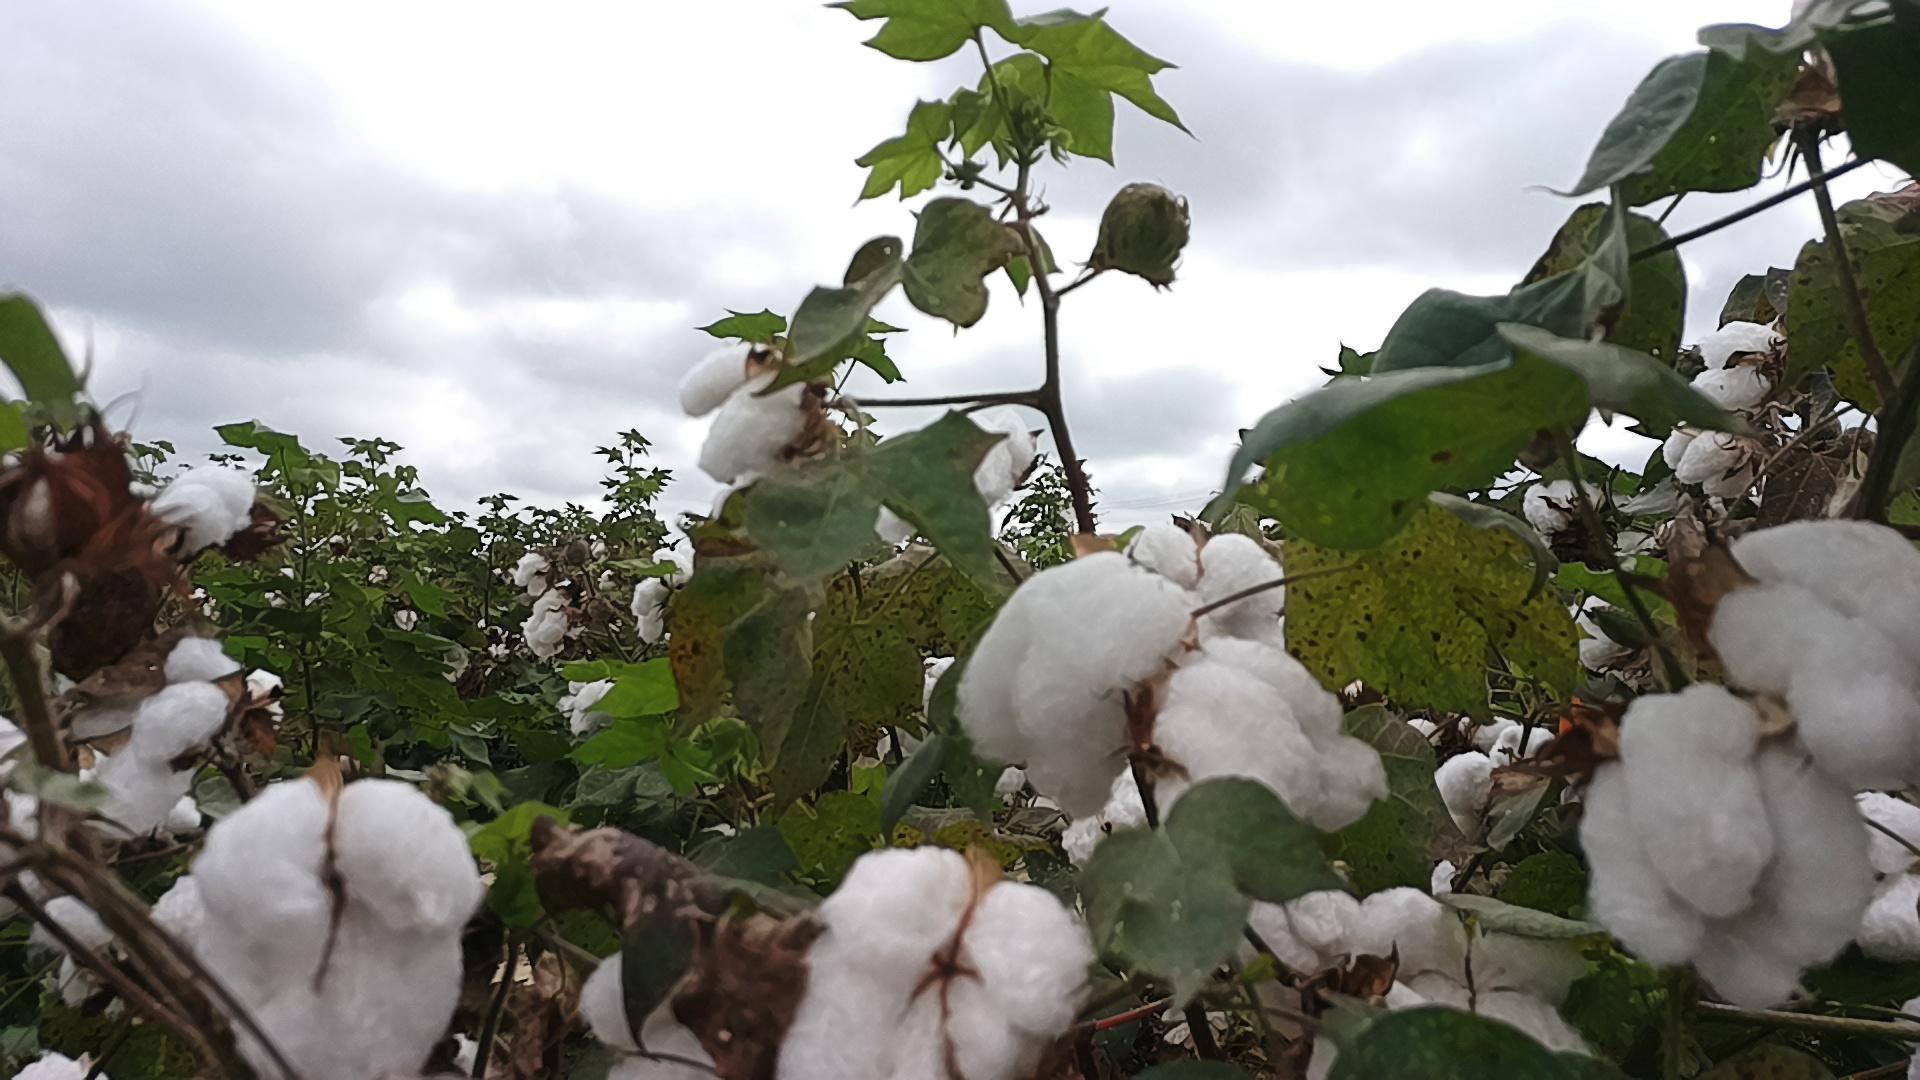cotton_ready: (956, 555, 1390, 823), (1582, 680, 1870, 1006), (190, 778, 483, 1080), (774, 845, 1093, 1080), (1698, 516, 1920, 789), (131, 634, 286, 777), (1237, 886, 1445, 980), (675, 344, 808, 483), (154, 462, 258, 547)
